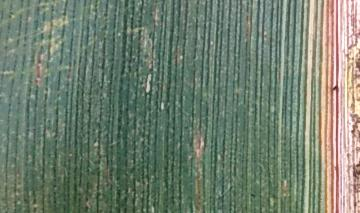tarspot: (330, 82, 341, 95), (249, 191, 259, 201)
